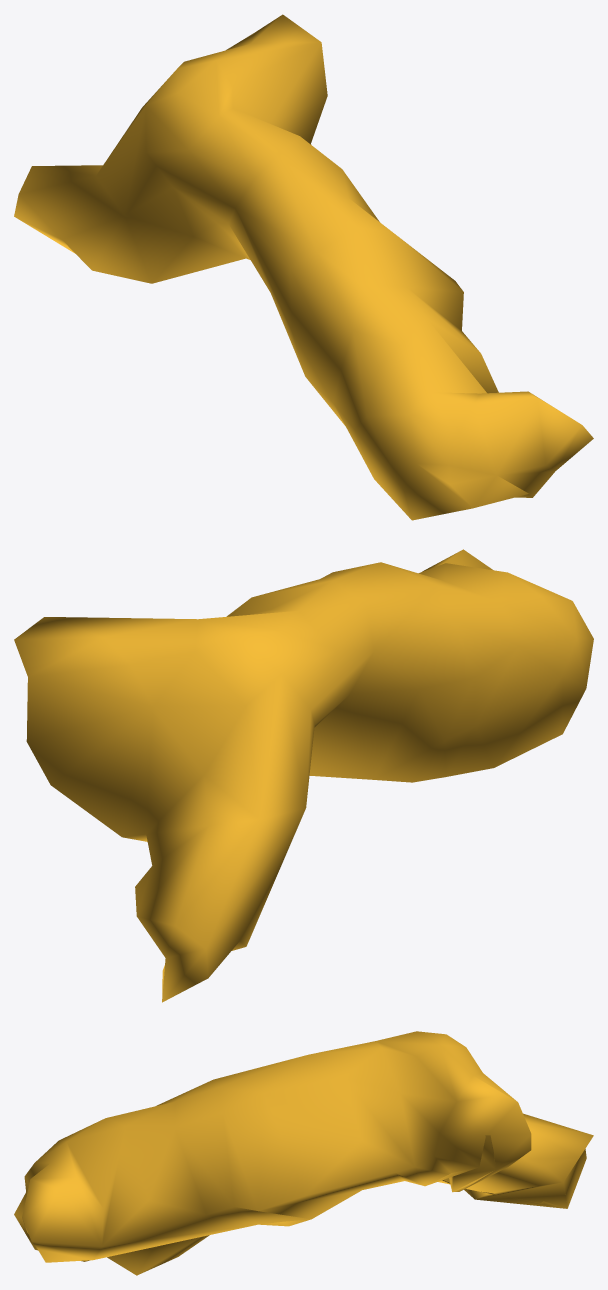
File: nervoso-occipitotemporal-sulcus-lateral-part-l.glb
The picture shows the model from 3 angles, top to bottom: view 1: azimuth 30°, elevation 25°; view 2: azimuth 150°, elevation 25°; view 3: azimuth 270°, elevation 25°; orthographic projection. The views are drawn at different scales.
Visible parts, largest first — view 1: Occipitotemporal sulcus (Lateral part*).l; view 2: Occipitotemporal sulcus (Lateral part*).l; view 3: Occipitotemporal sulcus (Lateral part*).l.
Part boxes in pixels (x1=…): Occipitotemporal sulcus (Lateral part*).l: x1=14, y1=14, x2=593, y2=520; Occipitotemporal sulcus (Lateral part*).l: x1=14, y1=549, x2=593, y2=1002; Occipitotemporal sulcus (Lateral part*).l: x1=14, y1=1031, x2=593, y2=1275.
Size of the model in its own units: 0.013 by 0.0159 by 0.0385.
